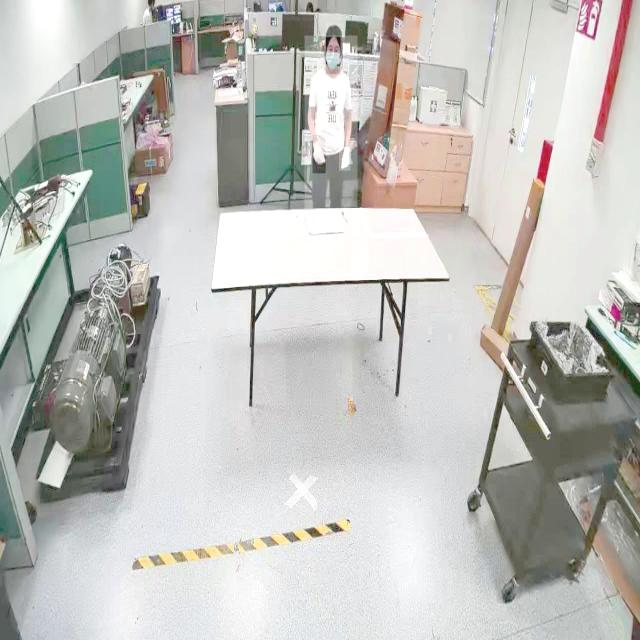face_mask: (326, 36, 340, 74)
hand_glove: (312, 135, 326, 174), (338, 146, 351, 172)
head_nohelmet: (326, 23, 344, 38)
person: (304, 36, 358, 210)
